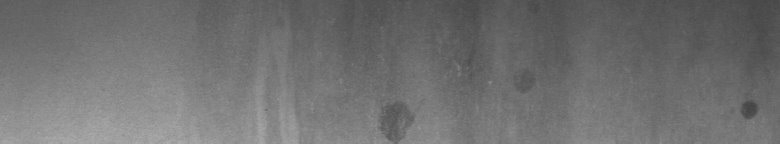fi: (732, 92, 763, 124)
